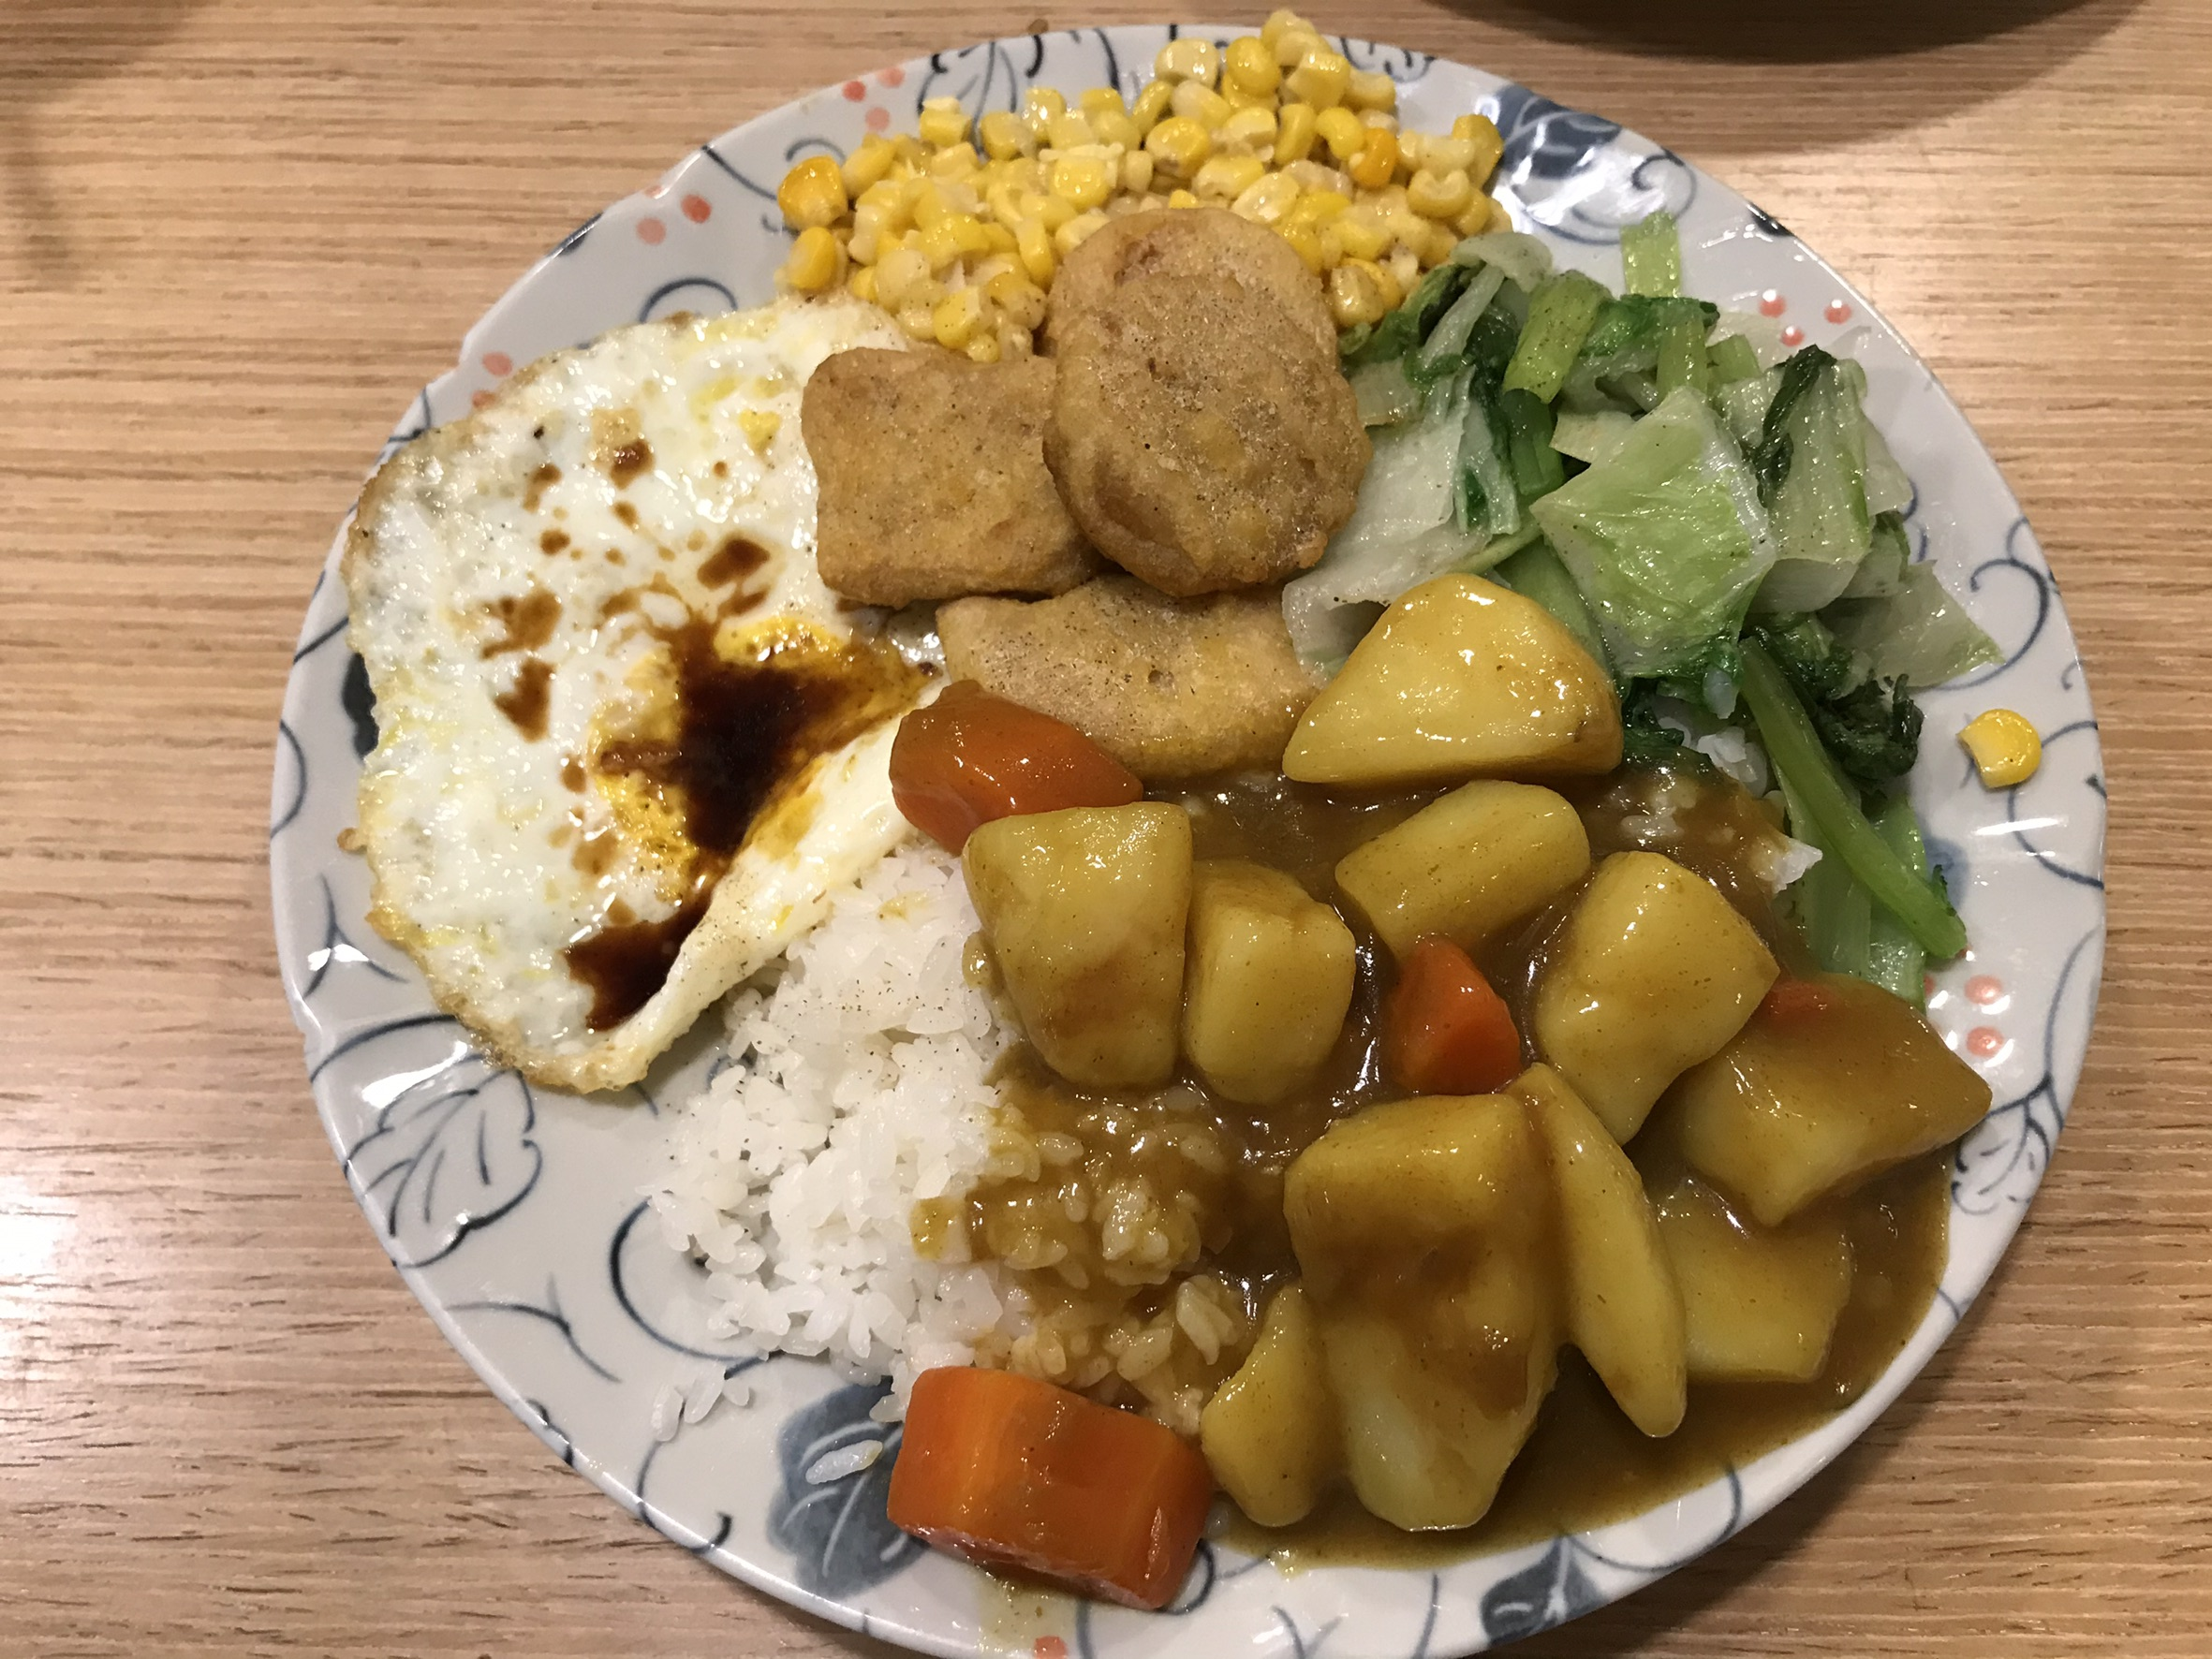chicken_nuggets: (805, 209, 1374, 775)
curry: (980, 694, 1940, 1541)
fried_eggs: (373, 307, 898, 1094)
rice: (694, 854, 1046, 1384)
